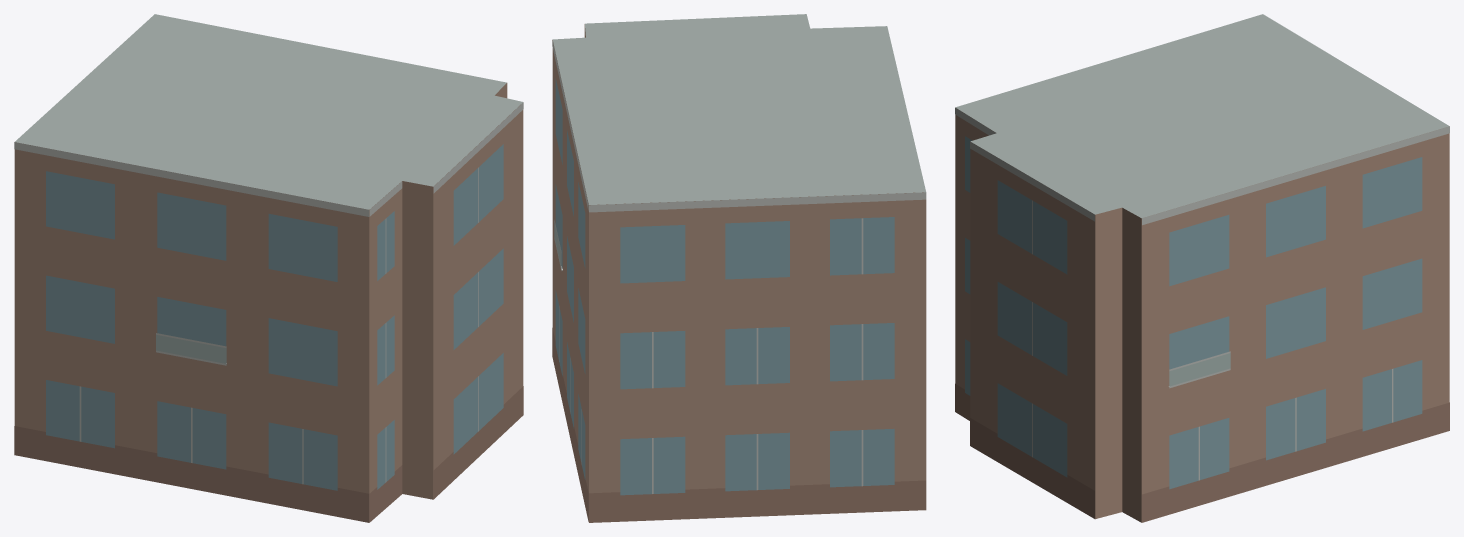
File: survey-upis-32525327.glb
3 views of the same model, side by side, from view 1: azimuth 30°, elevation 25°; view 2: azimuth 150°, elevation 25°; view 3: azimuth 270°, elevation 25° (orthographic). The views are drawn at different scales.
Parts seen in each view (by area): view 1: survey-upis-32525327.tmp; view 2: survey-upis-32525327.tmp; view 3: survey-upis-32525327.tmp.
Boxes of the visible parts, x1=… form: survey-upis-32525327.tmp: x1=14, y1=14, x2=523, y2=522; survey-upis-32525327.tmp: x1=552, y1=14, x2=926, y2=522; survey-upis-32525327.tmp: x1=955, y1=14, x2=1449, y2=522.
Size of the model in its own units: 15.12 by 10.5 by 15.46.
